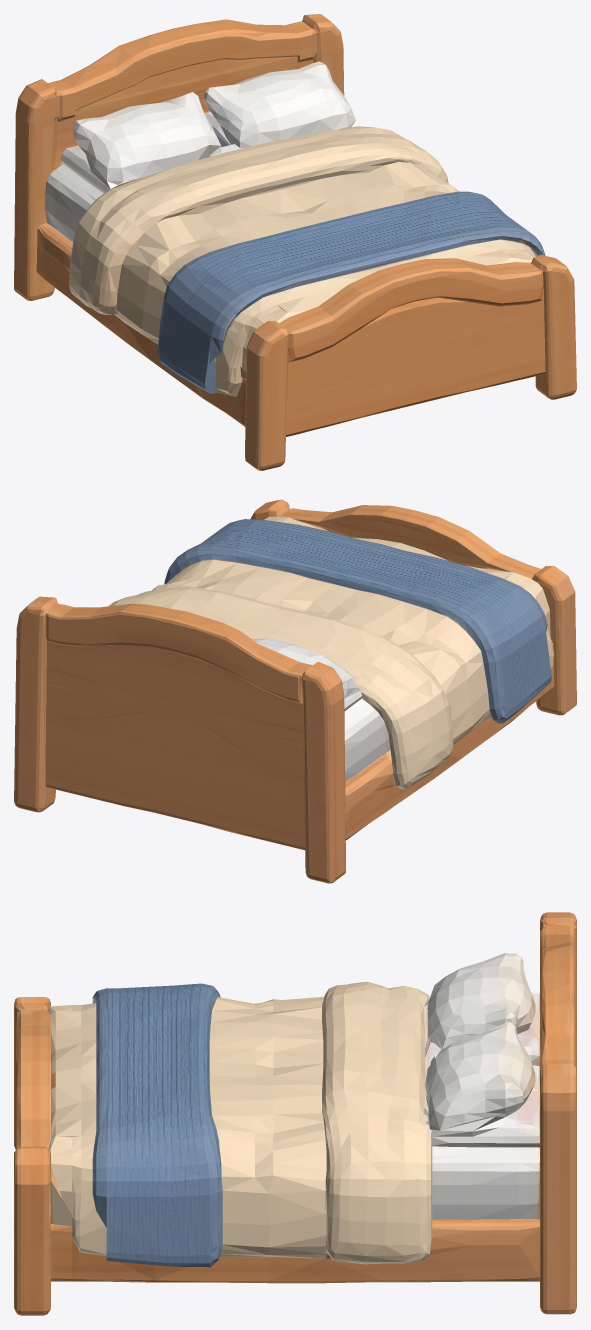
File: DoubleBed.glb
3 views of the same model, one above another, from view 1: azimuth 30°, elevation 25°; view 2: azimuth 150°, elevation 25°; view 3: azimuth 270°, elevation 25° (orthographic). The views are drawn at different scales.
Parts seen in each view (by area): view 1: Mesh_0; view 2: Mesh_0; view 3: Mesh_0.
Part boxes in pixels (x1=…): Mesh_0: x1=14, y1=14, x2=576, y2=470; Mesh_0: x1=14, y1=499, x2=576, y2=883; Mesh_0: x1=14, y1=912, x2=576, y2=1315.
Bounding box in the file's own units: 0.8158 × 0.5 × 0.9838.
Materials: 1 (1 with a texture image).
